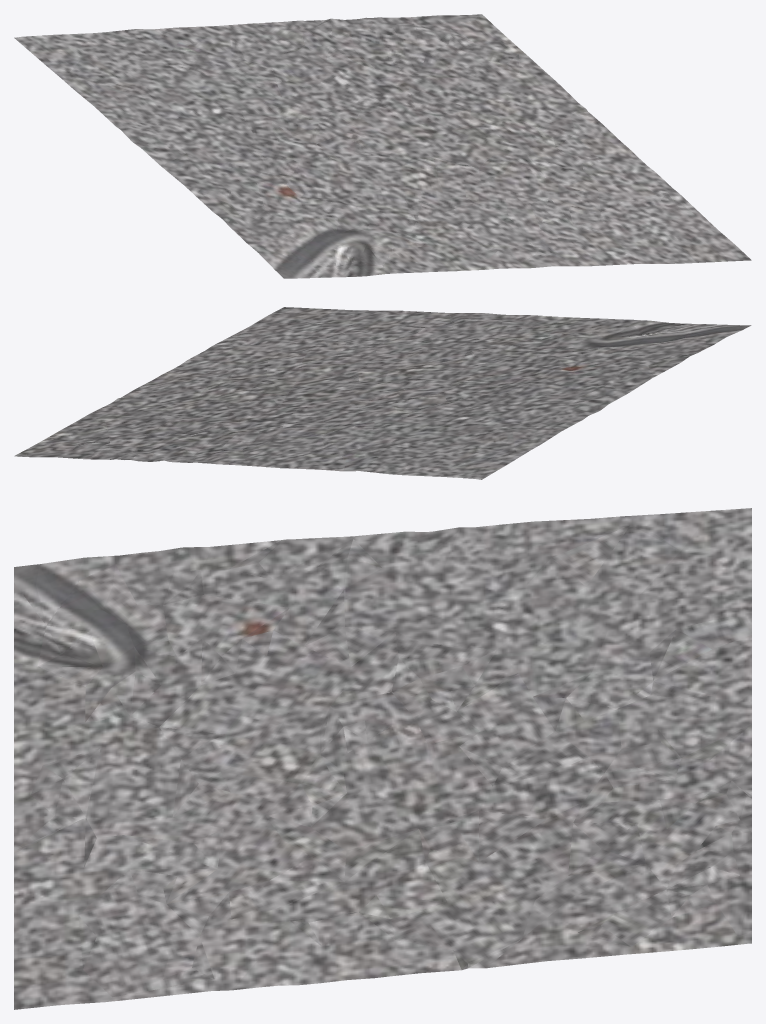
3 views of the same model, one above another, from view 1: azimuth 30°, elevation 25°; view 2: azimuth 150°, elevation 25°; view 3: azimuth 270°, elevation 25° (orthographic). The views are drawn at different scales.
Bounding box in the file's own units: 0.8374 × 0.2378 × 0.8374.
Materials: 3 (3 with a texture image).
